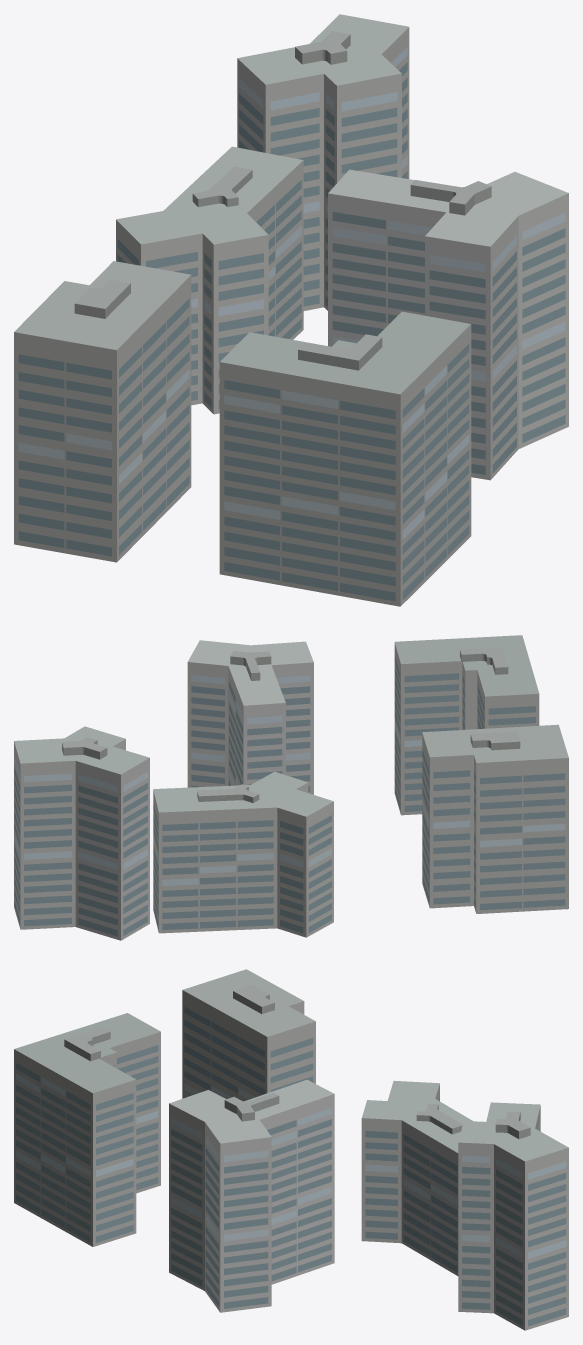
File: apt-a10025428.glb
3 renders of one model, top to bottom at view 1: azimuth 30°, elevation 25°; view 2: azimuth 150°, elevation 25°; view 3: azimuth 270°, elevation 25°, orthographic. The views are drawn at different scales.
Parts seen in each view (by area): view 1: apt-a10025428; view 2: apt-a10025428; view 3: apt-a10025428.
Part boxes in pixels (x1,y1,x2,y2): apt-a10025428: (14, 14, 568, 606); apt-a10025428: (14, 635, 568, 940); apt-a10025428: (14, 969, 568, 1330).
Size of the model in its own units: 111 by 44 by 125.
